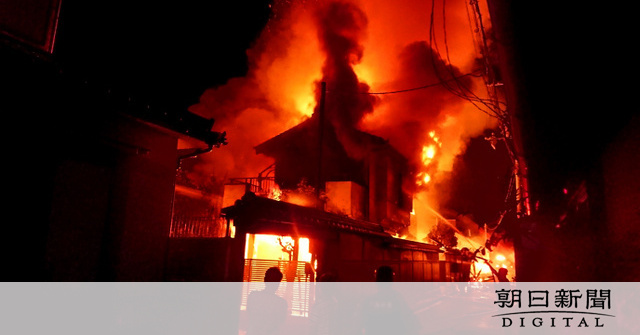Fire: (327, 19, 387, 126), (407, 95, 455, 193), (273, 51, 312, 117), (407, 199, 456, 240), (237, 231, 311, 258)
